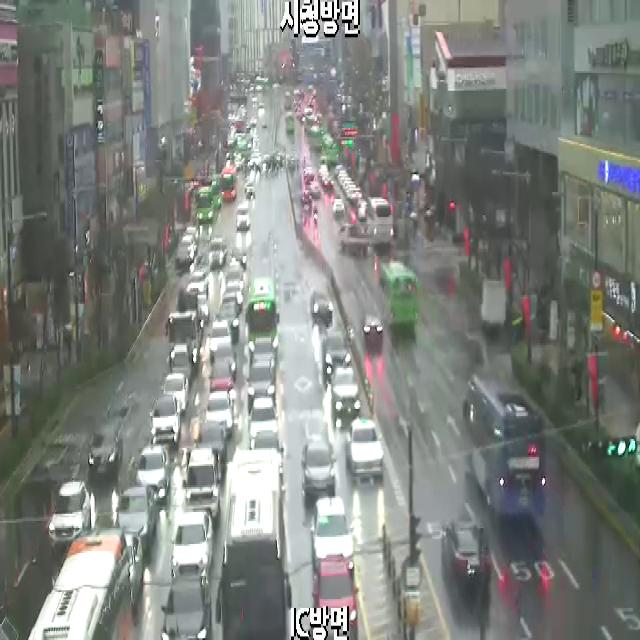Bus: (214, 447, 292, 640), (462, 373, 546, 518), (28, 526, 133, 640), (380, 262, 418, 331), (246, 278, 280, 354), (365, 198, 394, 246), (197, 188, 214, 222), (221, 166, 237, 202), (321, 132, 338, 165), (209, 179, 222, 208)
Car: (312, 554, 359, 639), (159, 575, 212, 640), (440, 521, 493, 585), (310, 498, 354, 572), (170, 511, 213, 585), (49, 482, 91, 546), (301, 439, 337, 506), (115, 488, 157, 542), (346, 420, 384, 479), (87, 423, 123, 477), (136, 447, 170, 504), (195, 421, 227, 481), (331, 367, 361, 426), (322, 331, 352, 389), (150, 396, 180, 448), (246, 368, 276, 416), (249, 399, 279, 444), (125, 535, 143, 608), (205, 392, 234, 436), (338, 222, 372, 256), (160, 374, 188, 412), (249, 342, 277, 378), (210, 321, 232, 364), (213, 346, 237, 381), (311, 290, 333, 327), (216, 308, 239, 342), (208, 366, 234, 393), (185, 272, 208, 300), (363, 315, 383, 342), (222, 289, 242, 312), (236, 203, 251, 231), (230, 248, 248, 270), (225, 270, 243, 292), (197, 298, 210, 326), (175, 246, 190, 269), (182, 236, 194, 262), (184, 226, 199, 244), (332, 199, 345, 215), (351, 186, 362, 204), (310, 182, 322, 198), (244, 183, 256, 199), (346, 184, 356, 201), (301, 192, 312, 206), (324, 177, 334, 192), (344, 180, 353, 196), (334, 164, 343, 179), (318, 164, 329, 176), (304, 170, 315, 181), (343, 177, 351, 192), (337, 170, 346, 183), (341, 174, 348, 190)
Truck: (166, 289, 202, 381), (182, 448, 220, 517), (479, 281, 506, 334), (209, 236, 227, 268)
